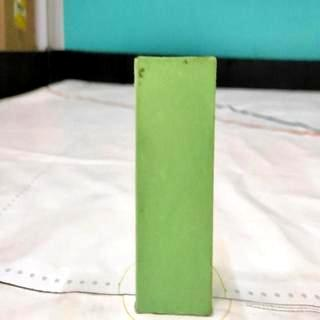greenbox: (134, 56, 212, 316)
